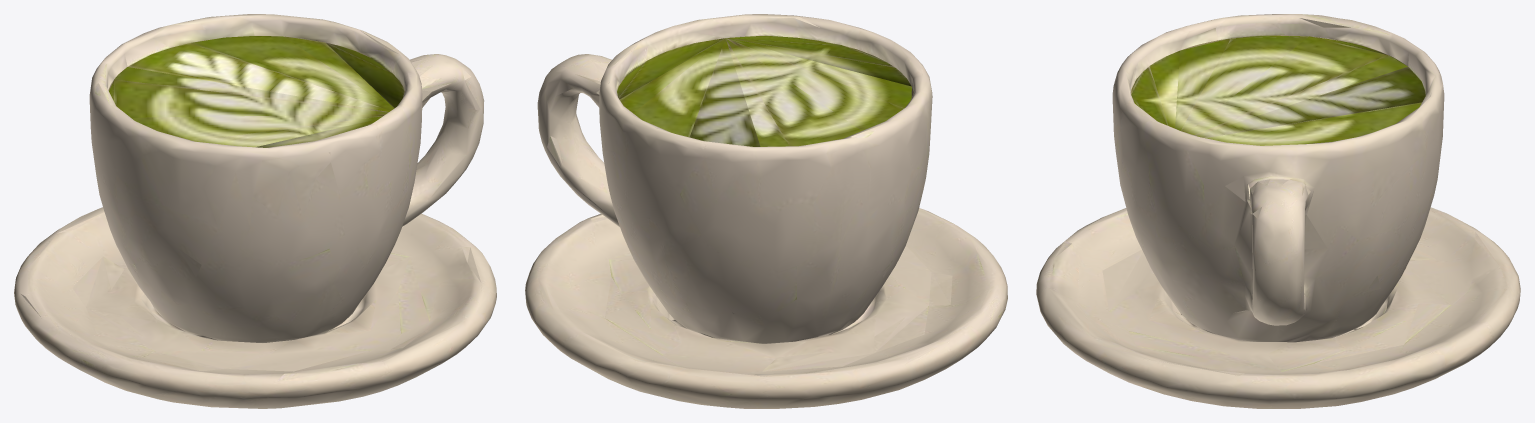
File: cup_matcha.gltf
The picture shows the model from 3 angles, left to right: view 1: azimuth 30°, elevation 25°; view 2: azimuth 150°, elevation 25°; view 3: azimuth 270°, elevation 25°; orthographic projection.
Visible parts, largest first — view 1: cup_matcha; view 2: cup_matcha; view 3: cup_matcha.
Boxes of the visible parts, box(x1,y1,x2,y2) form: cup_matcha: box(14, 14, 496, 408); cup_matcha: box(525, 14, 1007, 408); cup_matcha: box(1036, 14, 1520, 408).
Bounding box in the file's own units: 1 × 0.5417 × 0.9662.
1 material, 1 textured.
